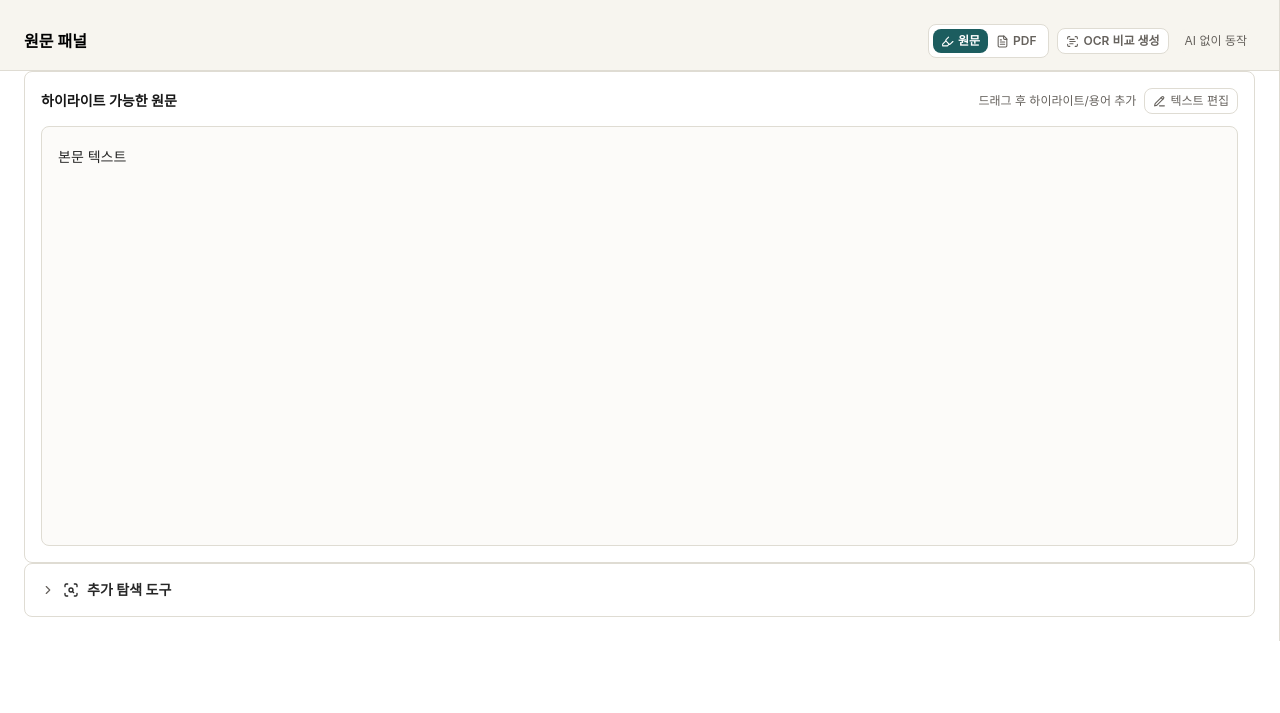
Test case: SourcePanel OCR action › lists formula candidates as PDF review locations without changing source text
Click the button "추가 탐색 도구".
click(106, 590)  # box [41, 580, 171, 600]
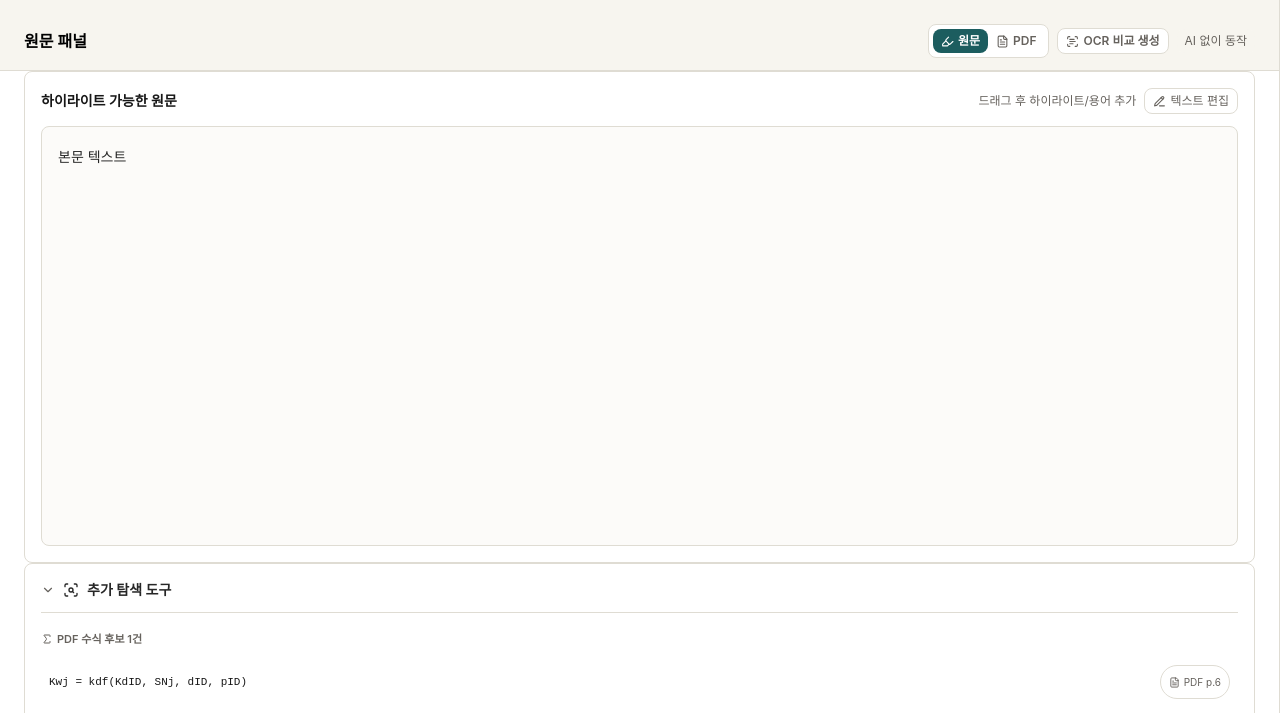
Expected: the text "PDF 수식 후보 1건" is shown, [41, 632, 142, 646]
Expected: the text "Kwj = kdf(KdID, SNj, dID, pID)" is shown, [49, 676, 247, 688]
Expected: the button "PDF p.6" is shown, [1160, 665, 1230, 699]
